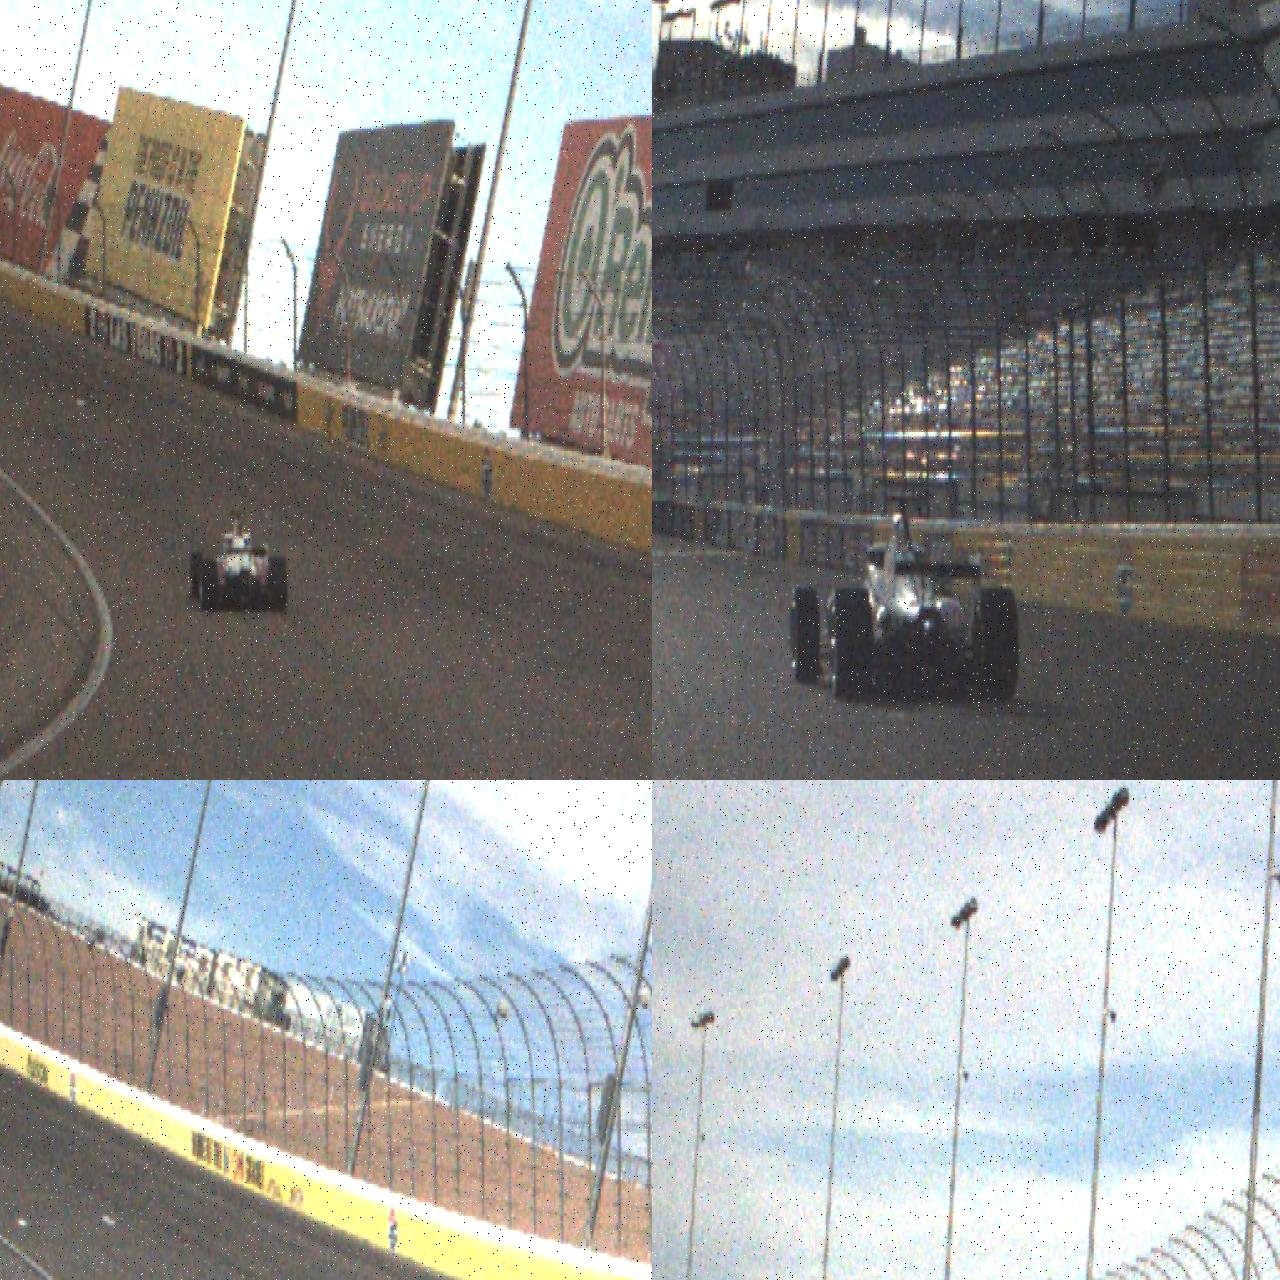AV: (789, 493, 1021, 708), (189, 510, 287, 612)
Wheel: (972, 587, 1020, 707), (829, 588, 873, 700), (789, 588, 822, 685), (268, 556, 287, 612), (199, 560, 218, 612), (190, 551, 204, 601)
